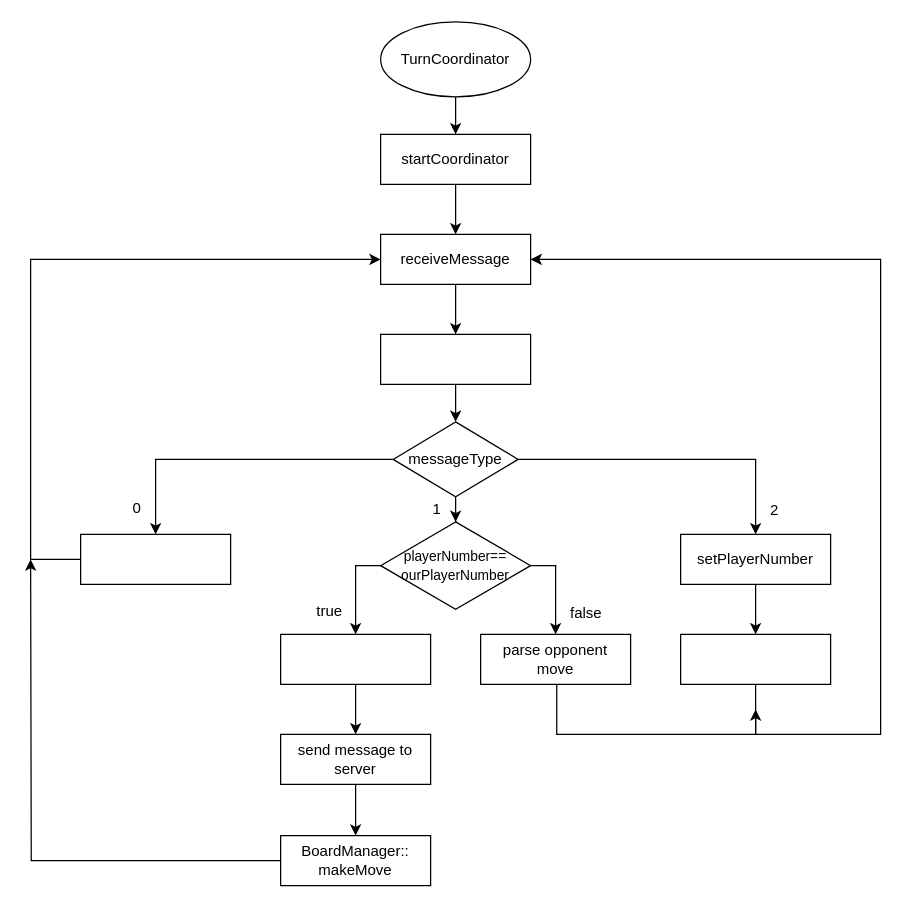
The diagram is 913 pixels wide and 908 high, and some of its shapes have lost their labels. Here are the shapes that lost their labels. From the top down, the centre of each, then its label:
At pixel 455 358: "handleMessage".
At pixel 155 558: "BoardManager:: inputTileStack".
At pixel 355 658: "AI::chooseTurn".
At pixel 755 658: "setUpAI".
